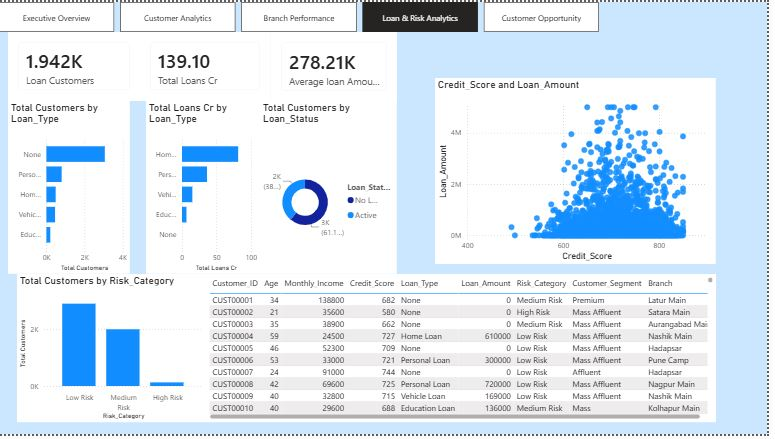

This screenshot's page, from the dashboard's own definition file:
{"tool":"powerbi","page":{"name":"Loan & Risk Analytics","canvas":[1280,720],"ordinal":3},"visuals":[{"type":"cardVisual","fields":{"Data":["Customers.Loan Customers"]},"box":[15,50,220.6,114.9],"z":0},{"type":"cardVisual","fields":{"Data":["Customers.Total Loans Cr"]},"box":[235,50,217.6,114.9],"z":1000},{"type":"cardVisual","fields":{"Data":["Customers.Average loan Amount"]},"box":[453.3,50,210,115],"z":2000},{"type":"donutChart","fields":{"Category":["Customers.Loan_Status"],"Y":["Customers.Total Customers"]},"box":[435,165,228.3,288.3],"z":3000},{"type":"clusteredBarChart","fields":{"Category":["Customers.Loan_Type"],"Y":["Customers.Total Customers"]},"box":[15,165,203.3,288.3],"z":4000},{"type":"clusteredBarChart","fields":{"Category":["Customers.Loan_Type"],"Y":["Customers.Total Loans Cr"]},"box":[245,165,190,288.3],"z":5000},{"type":"scatterChart","fields":{"X":["Customers.Credit_Score"],"Y":["Customers.Loan_Amount"]},"box":[726.7,126.7,468.3,310],"z":6000},{"type":"clusteredColumnChart","fields":{"Category":["Customers.Risk_Category"],"Y":["Customers.Total Customers"]},"box":[30,453.3,315,246.7],"z":7000},{"type":"tableEx","fields":{"Values":["Customers.Customer_ID","Customers.Age","Customers.Monthly_Income","Customers.Credit_Score","Customers.Loan_Type","Customers.Loan_Amount","Customers.Risk_Category","Customers.Customer_Segment","Customers.Branch"]},"box":[345,453.3,850,246.7],"z":8000},{"type":"pageNavigator","box":[0,0,1000,50],"z":8001}]}

Visuals, with their boxes in screenshot pixels (x1, y1, x2, y2), scaled from the page's 1280x720 canvas onto the 775x439 screenshot:
cardVisual - Customers.Loan Customers: (9,30,143,101)
cardVisual - Customers.Total Loans Cr: (142,30,274,101)
cardVisual - Customers.Average loan Amount: (274,30,402,101)
donutChart - Customers.Loan_Status x Customers.Total Customers: (263,101,402,276)
clusteredBarChart - Customers.Loan_Type x Customers.Total Customers: (9,101,132,276)
clusteredBarChart - Customers.Loan_Type x Customers.Total Loans Cr: (148,101,263,276)
scatterChart - Customers.Credit_Score x Customers.Loan_Amount: (440,77,724,266)
clusteredColumnChart - Customers.Risk_Category x Customers.Total Customers: (18,276,209,427)
tableEx - Customers.Customer_ID x Customers.Age: (209,276,724,427)
pageNavigator: (0,0,605,30)
